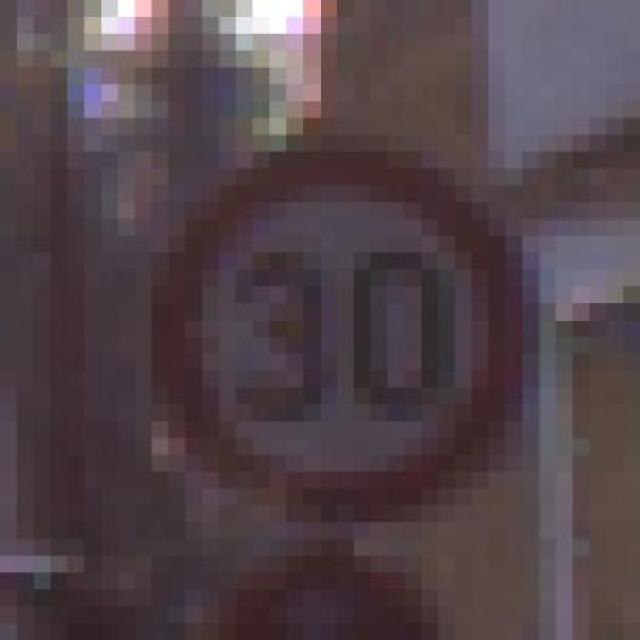Speed Limit 30 KMPh: (84, 101, 556, 505)
